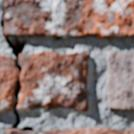brick: (4, 0, 133, 37), (108, 52, 133, 110), (6, 129, 133, 133)
broken_brick: (19, 51, 89, 112), (0, 51, 18, 113)
crack: (0, 2, 35, 131), (54, 36, 60, 40)
